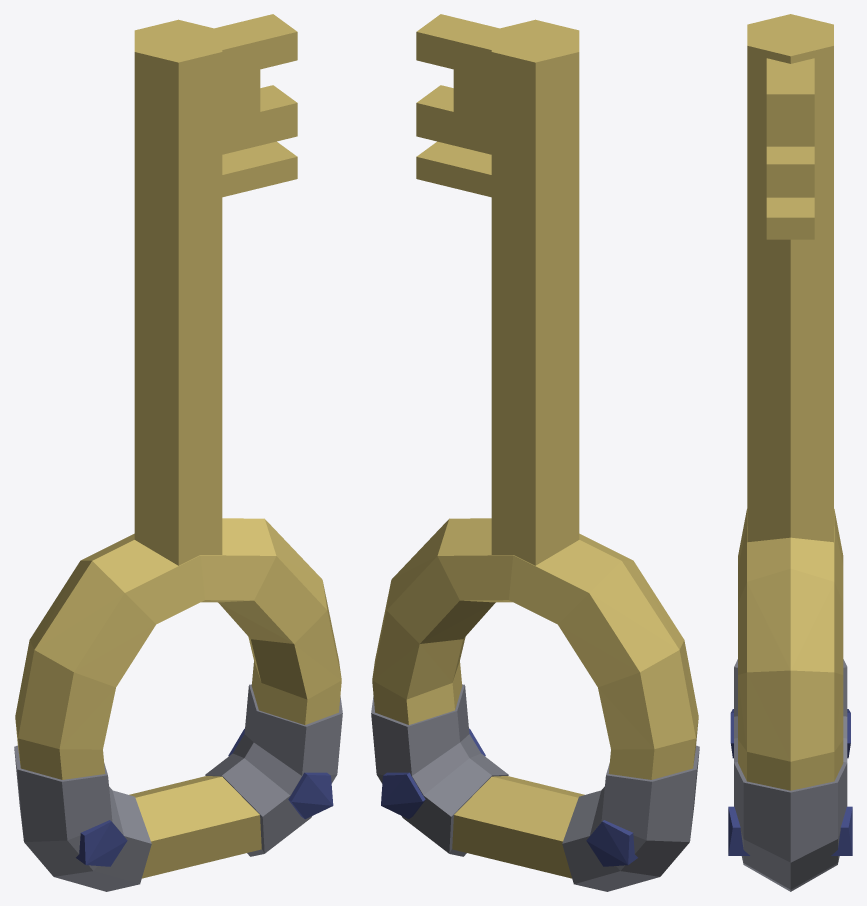
The model's file is _key_04.fbx.
The picture shows the model from 3 angles, left to right: view 1: azimuth 30°, elevation 25°; view 2: azimuth 150°, elevation 25°; view 3: azimuth 270°, elevation 25°; orthographic projection.
Parts seen in each view (by area): view 1: key_04; view 2: key_04; view 3: key_04.
Part boxes in pixels (x1=…): key_04: x1=14, y1=14, x2=342, y2=891; key_04: x1=371, y1=14, x2=699, y2=891; key_04: x1=728, y1=14, x2=852, y2=891.
Bounding box in the file's own units: 7.67 × 18.92 × 2.6.
